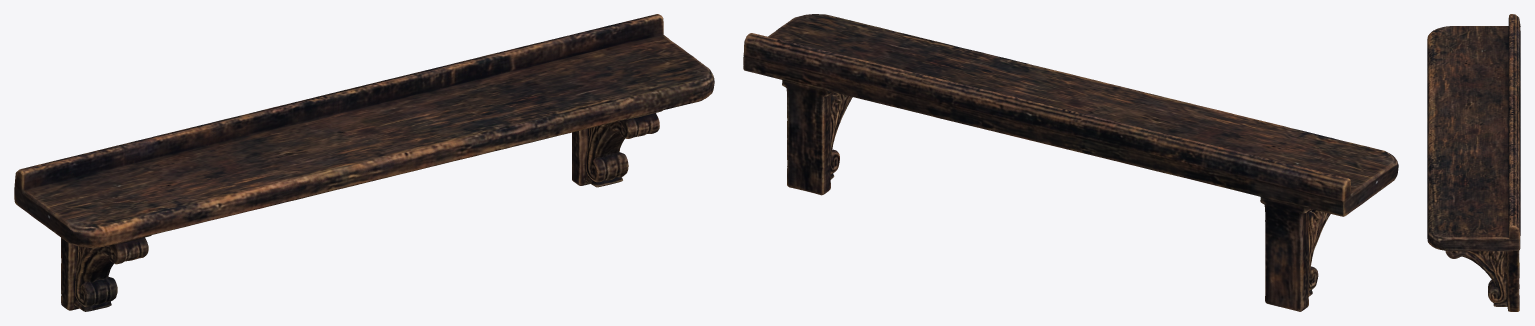
File: jar-shelf.glb
3 views of the same model, side by side, from view 1: azimuth 30°, elevation 25°; view 2: azimuth 150°, elevation 25°; view 3: azimuth 270°, elevation 25° (orthographic). The views are drawn at different scales.
Size of the model in its own units: 0.9999 by 0.2238 by 0.1854.
1 material, 1 textured.
